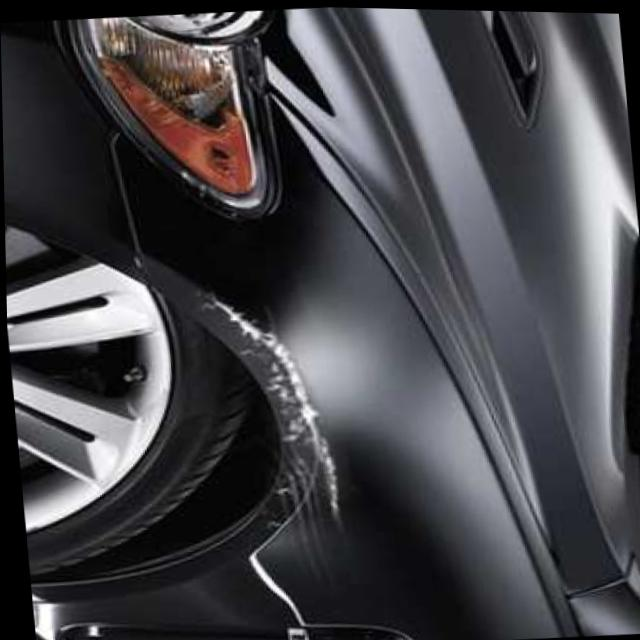Scratch: (193, 277, 352, 541)
